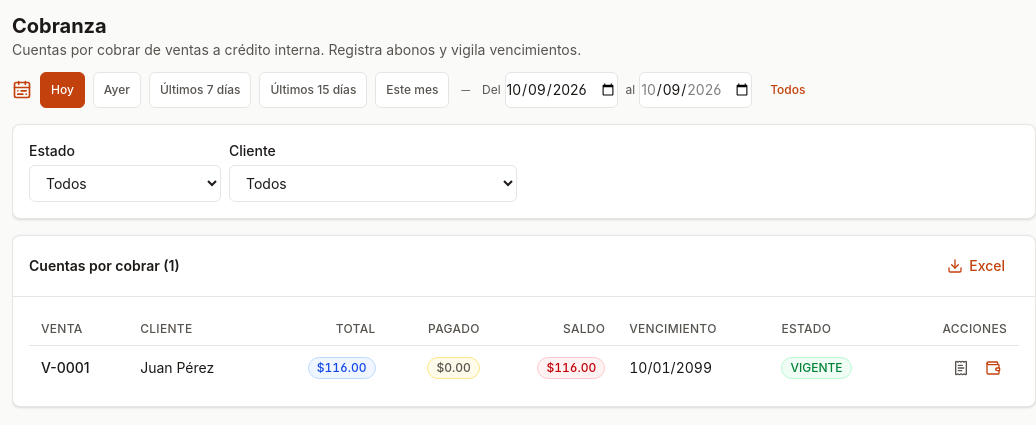
it: CobranzaPage (profundización) › filtra por cliente y recarga la lista
The width and height of the screenshot is (1036, 425).
Expected: the text "V-0001" is shown, [41,359,90,376]
Select "Juan Pérez" in the dropdown labelled "Cliente" at (373, 184), box [229,165,517,202]
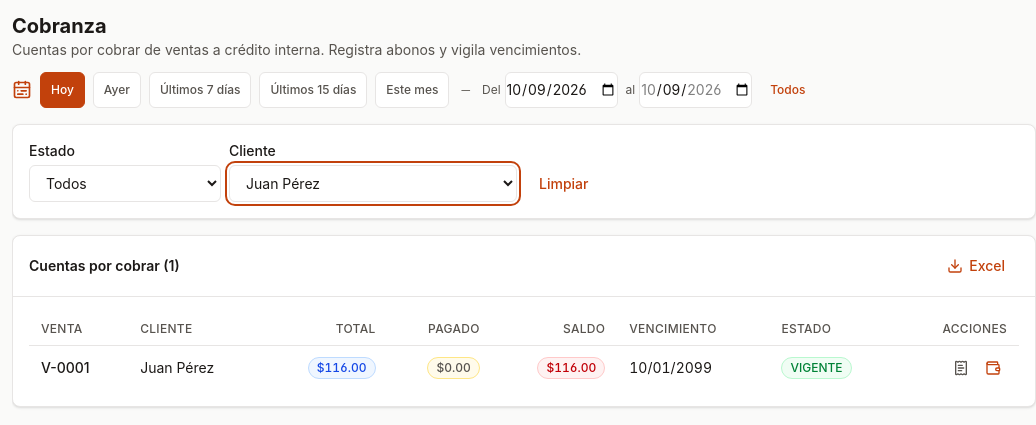
Result: the button "Limpiar" is shown at [525,166,602,202]
